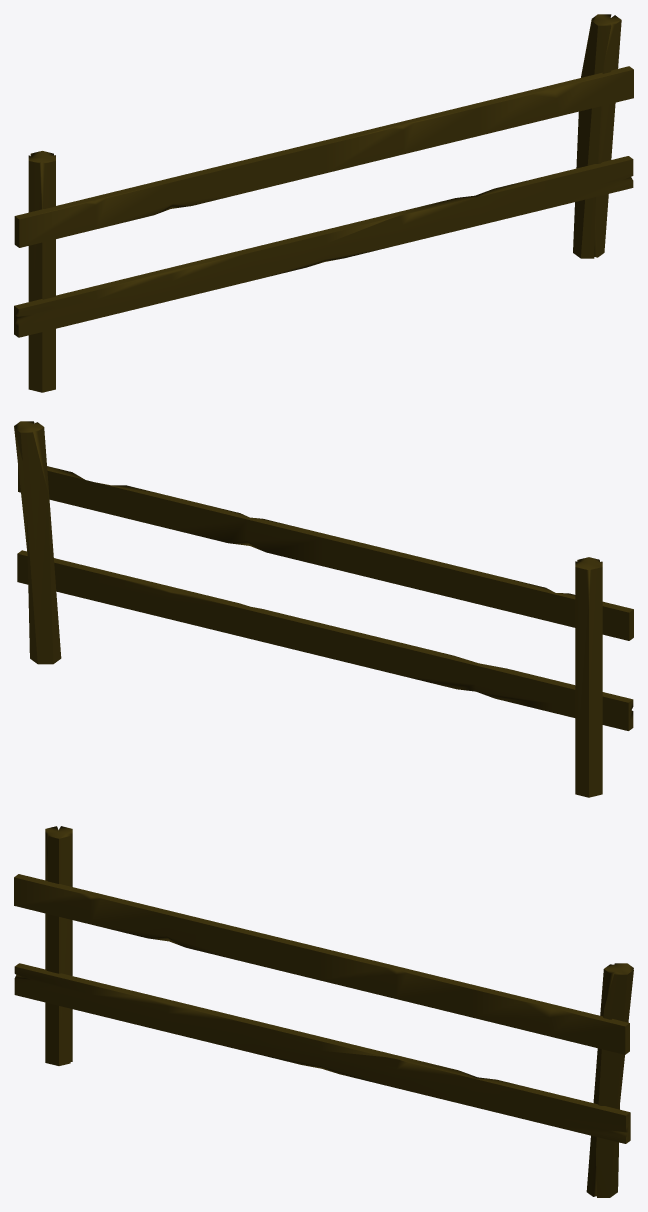
File: FencePro.fbx
The picture shows the model from 3 angles, top to bottom: view 1: azimuth 30°, elevation 25°; view 2: azimuth 150°, elevation 25°; view 3: azimuth 330°, elevation 25°; orthographic projection.
Visible parts, largest first — view 1: Fence; view 2: Fence; view 3: Fence.
Boxes of the visible parts, x1,y1,x2,y2 form: Fence: (14, 14, 633, 392); Fence: (14, 421, 633, 797); Fence: (14, 826, 633, 1197).
Size of the model in its own units: 45 by 16 by 2.41.
